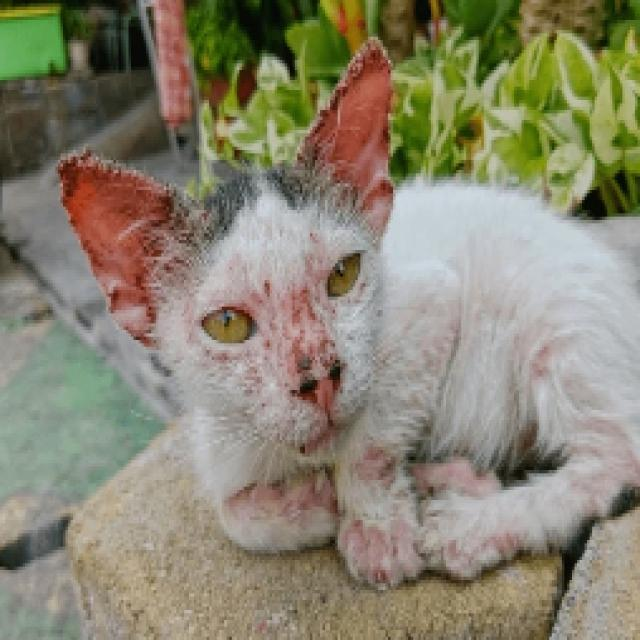Mange: (300, 34, 393, 158), (54, 145, 96, 226), (370, 554, 406, 608), (360, 440, 397, 492), (371, 162, 406, 212), (287, 279, 318, 333), (98, 273, 127, 324), (158, 177, 186, 226), (296, 344, 318, 378), (258, 272, 276, 305), (304, 224, 328, 247), (259, 331, 277, 358)
